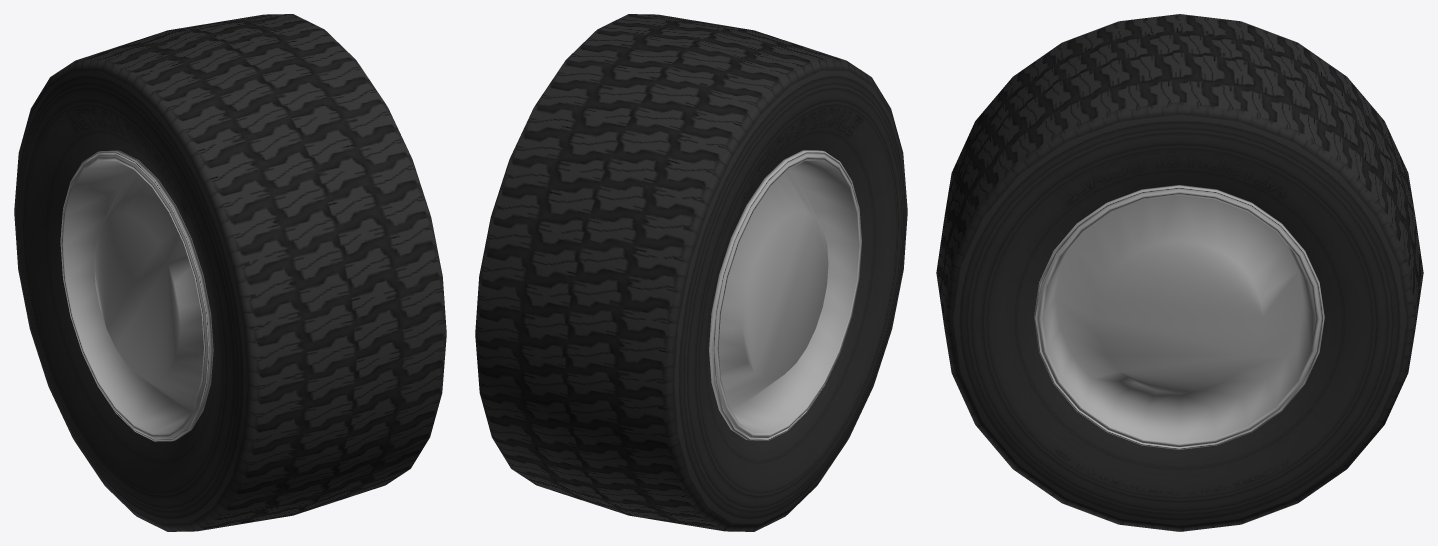
Rendered from wheels_03.fbx.
The picture shows the model from 3 angles, left to right: view 1: azimuth 30°, elevation 25°; view 2: azimuth 150°, elevation 25°; view 3: azimuth 270°, elevation 25°; orthographic projection. The views are drawn at different scales.
Visible parts, largest first — view 1: wheel_back_left, wheel_back_right; view 2: wheel_back_left, wheel_back_right; view 3: wheel_back_left, wheel_back_right.
Boxes of the visible parts, x1,y1,x2,y2 form: wheel_back_left: [14, 14, 446, 531]; wheel_back_right: [26, 65, 446, 530]; wheel_back_left: [475, 14, 907, 531]; wheel_back_right: [475, 60, 895, 522]; wheel_back_left: [936, 14, 1423, 506]; wheel_back_right: [944, 104, 1415, 531].
Bounding box in the file's own units: 35.04 × 70.77 × 70.77.
